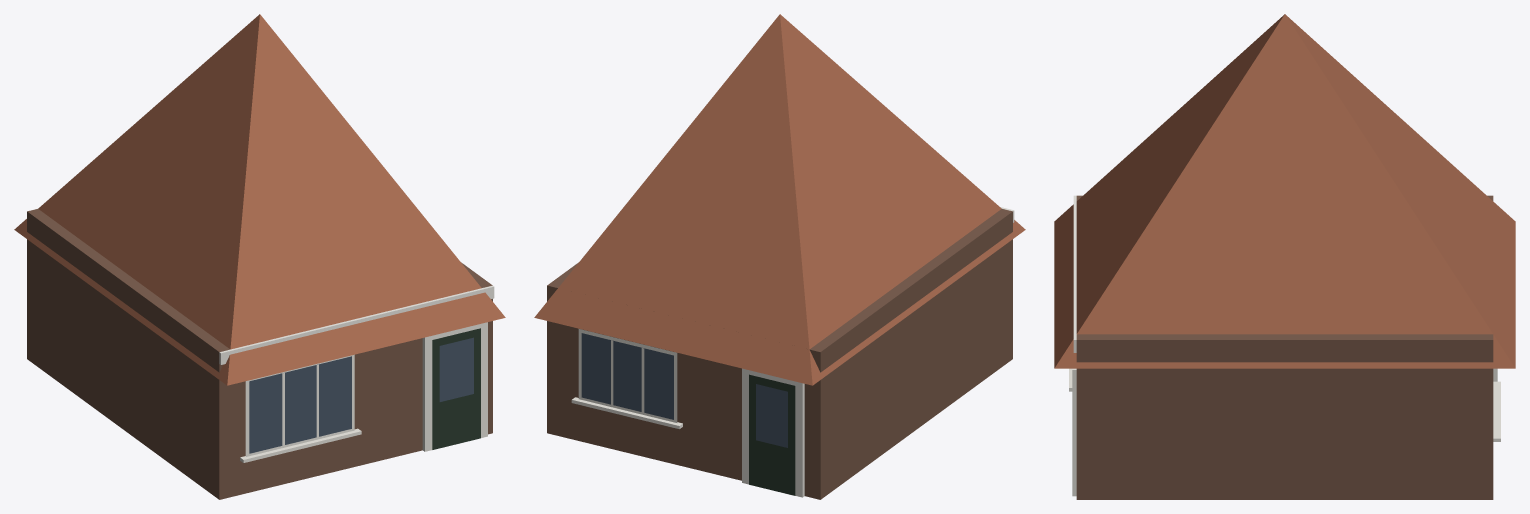
File: nd-to-cottage__green-door__2__hip__long__solid__f0d0__mirror.glb
The picture shows the model from 3 angles, left to right: view 1: azimuth 30°, elevation 25°; view 2: azimuth 150°, elevation 25°; view 3: azimuth 270°, elevation 25°; orthographic projection. The views are drawn at different scales.
Visible parts, largest first — view 1: nd-to-cottage__green-door__2__hip__long__solid__f0d0__mirror; view 2: nd-to-cottage__green-door__2__hip__long__solid__f0d0__mirror; view 3: nd-to-cottage__green-door__2__hip__long__solid__f0d0__mirror.
Part boxes in pixels (x1,y1,x2,y2): nd-to-cottage__green-door__2__hip__long__solid__f0d0__mirror: (14, 14, 505, 499); nd-to-cottage__green-door__2__hip__long__solid__f0d0__mirror: (534, 14, 1025, 499); nd-to-cottage__green-door__2__hip__long__solid__f0d0__mirror: (1054, 14, 1515, 499).
Size of the model in its own units: 5.43 by 7.11 by 7.19.
